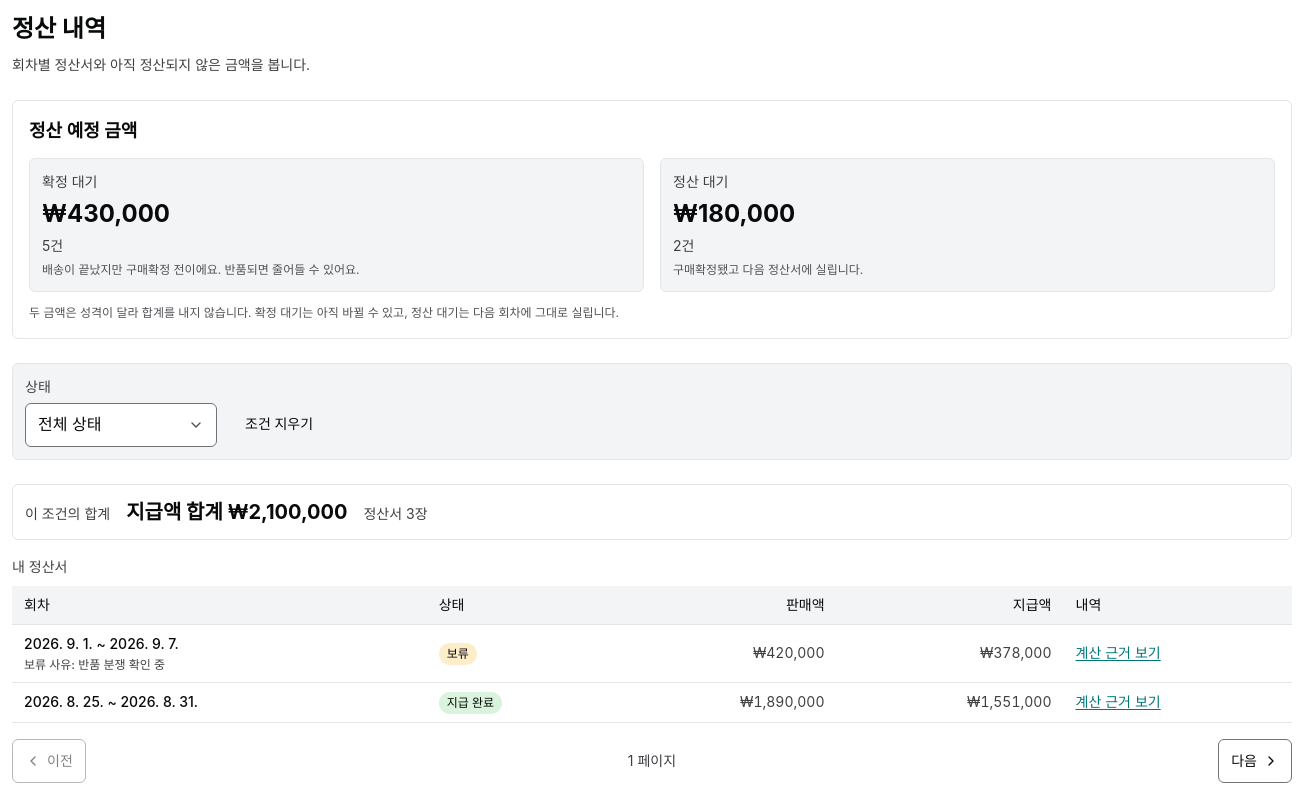
Test case: the settlement list › the status filter › says "none like this" rather than "none at all" when a filter is on
What coordinates should you click on to do the following:
click the dropdown labelled "상태"
I would click on:
 (121, 424)
Its box is [25,402,217,446].
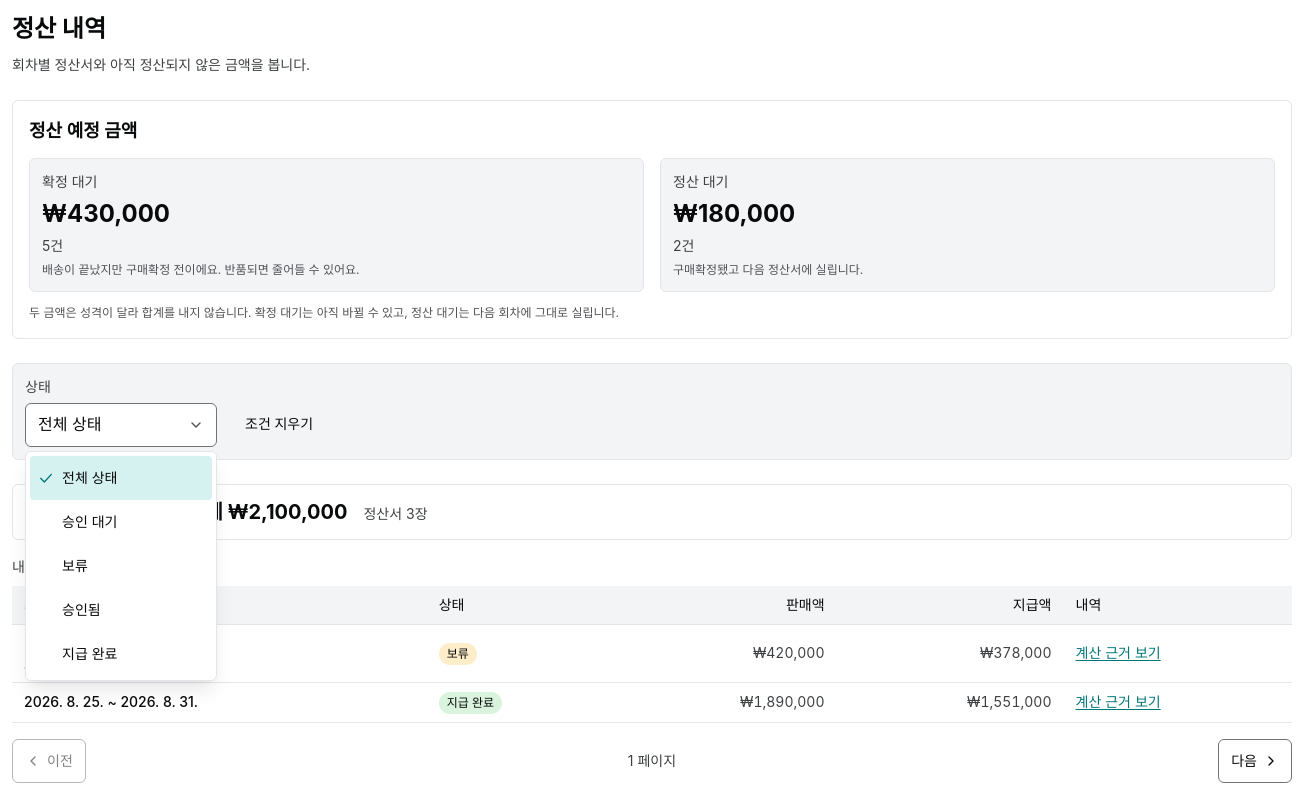
What coordinates should you click on to do the following:
click the option "승인됨"
I would click on:
 (81, 609)
Its box is [62,601,101,618].
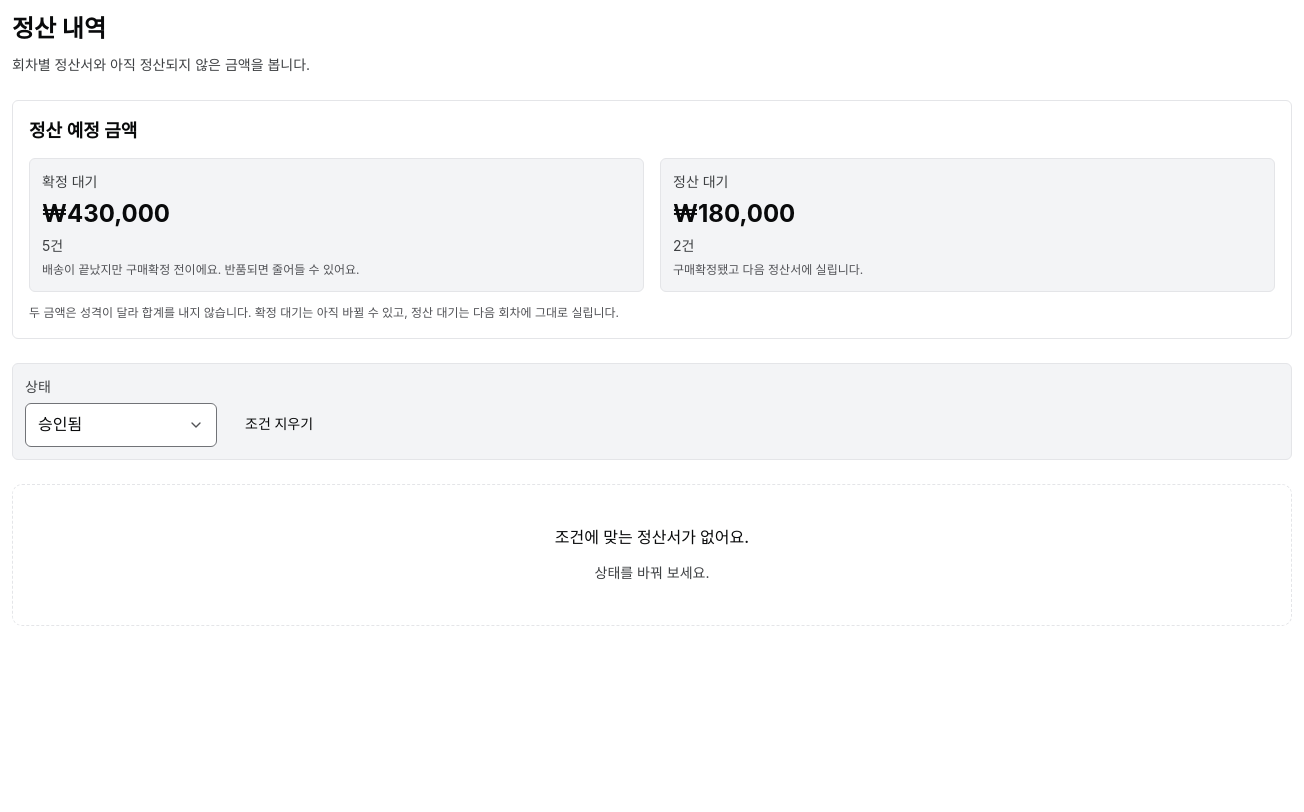
Result: the text "조건에 맞는 정산서가 없어요." is shown at [555,524,749,550]
